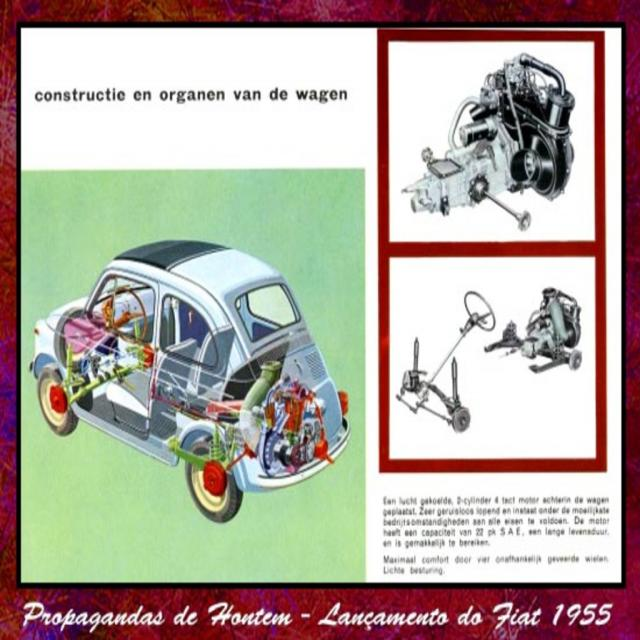other: (35, 233, 359, 518)
